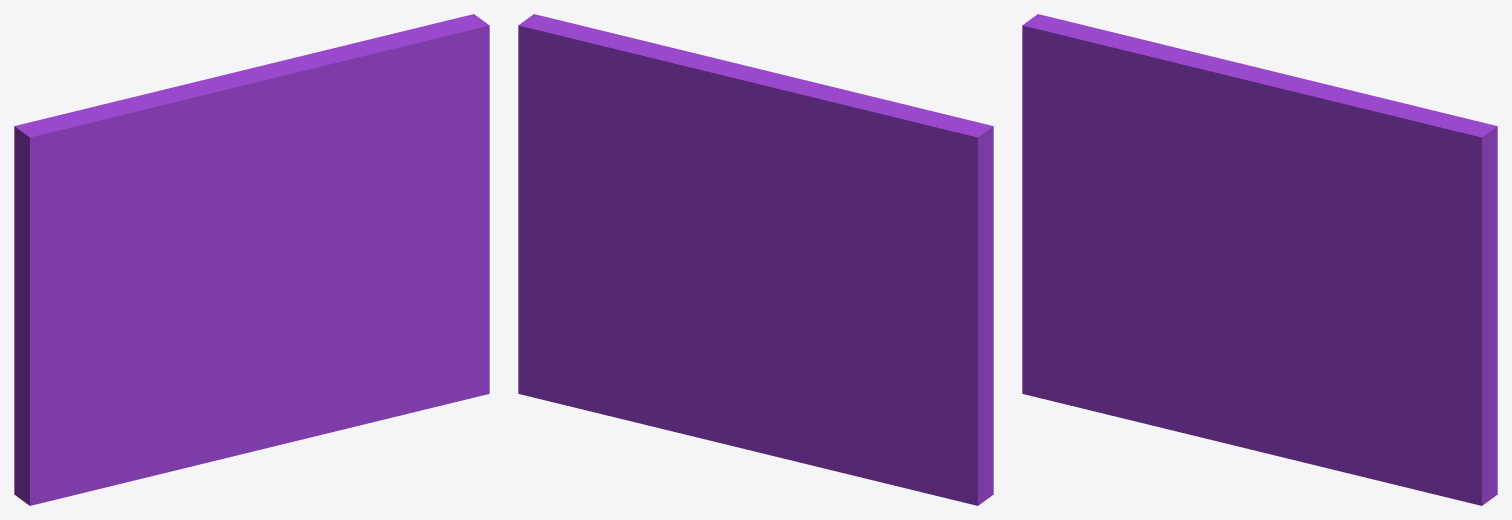
Rendered from Barrier_198_chunks.fbx.
3 views of the same model, side by side, from view 1: azimuth 30°, elevation 25°; view 2: azimuth 150°, elevation 25°; view 3: azimuth 330°, elevation 25° (orthographic).
Visible parts, largest first — view 1: Barrier_198_1, Barrier_198_3, Barrier_198_0, Barrier_198_2; view 2: Barrier_198_1, Barrier_198_3, Barrier_198_2, Barrier_198_0; view 3: Barrier_198_1, Barrier_198_3, Barrier_198_0, Barrier_198_2.
Part boxes in pixels (box(x1,y1,x2,y2)): Barrier_198_1: box(14, 84, 254, 505); Barrier_198_3: box(186, 14, 489, 272); Barrier_198_0: box(90, 259, 452, 490); Barrier_198_2: box(361, 266, 489, 402); Barrier_198_1: box(749, 85, 993, 505); Barrier_198_3: box(518, 14, 826, 254); Barrier_198_2: box(518, 244, 791, 442); Barrier_198_0: box(720, 342, 892, 484); Barrier_198_1: box(1022, 14, 1246, 408); Barrier_198_3: box(1188, 56, 1497, 378); Barrier_198_0: box(1083, 257, 1444, 496); Barrier_198_2: box(1353, 322, 1497, 505).
Bounding box in the file's own units: 376 × 288 × 22.1.
